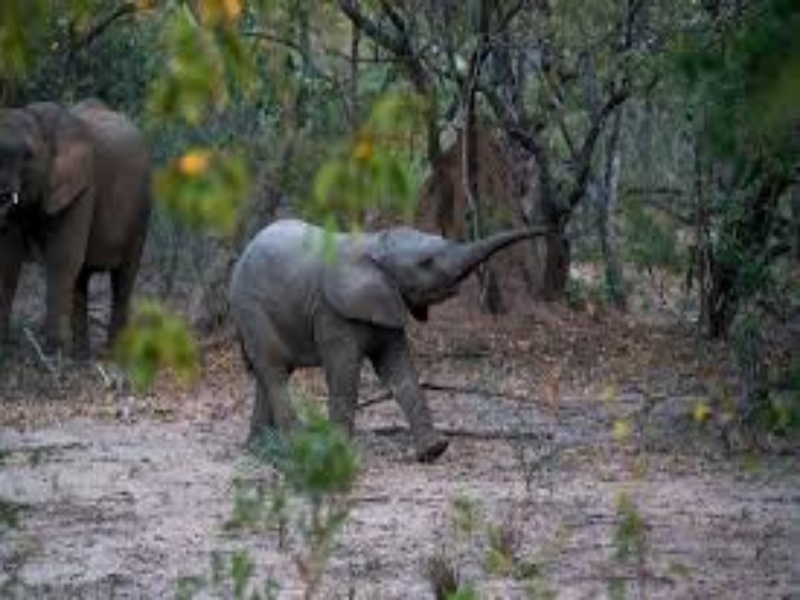elephant: (229, 193, 552, 475), (12, 78, 141, 358)
